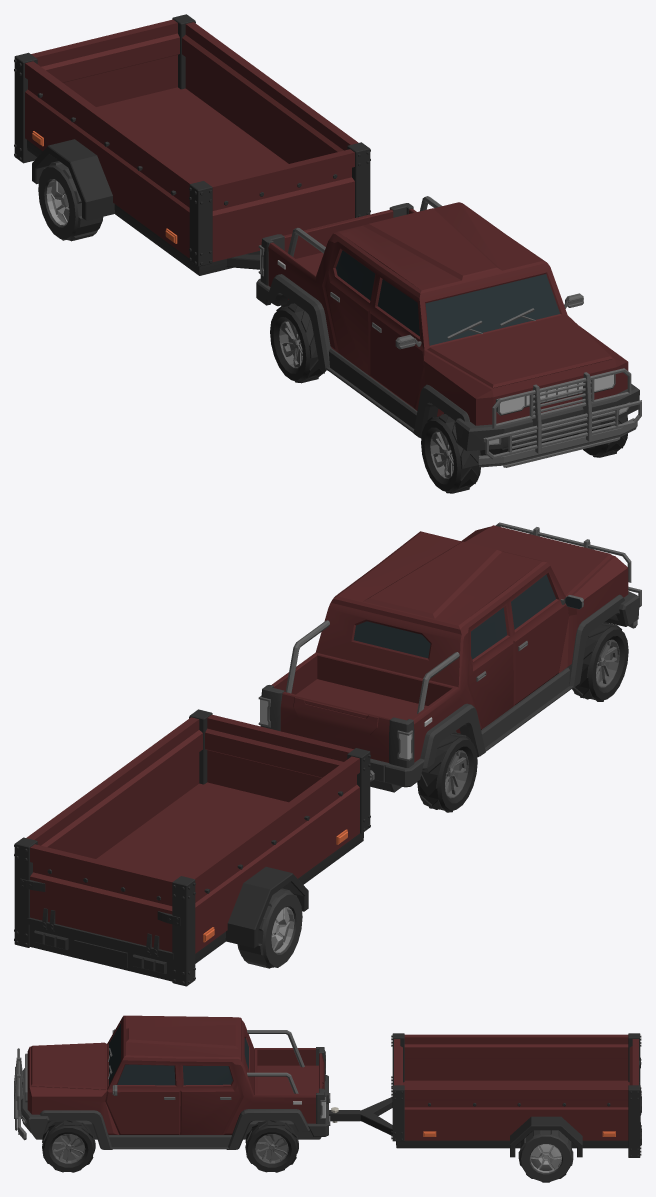
Rendered from car_01.glb.
3 renders of one model, top to bottom at view 1: azimuth 30°, elevation 25°; view 2: azimuth 150°, elevation 25°; view 3: azimuth 270°, elevation 25°, orthographic. The views are drawn at different scales.
Visible parts, largest first — view 1: car_01; view 2: car_01; view 3: car_01.
Boxes of the visible parts, bbox=[...] form: car_01: bbox=[14, 14, 641, 493]; car_01: bbox=[14, 522, 641, 986]; car_01: bbox=[14, 1015, 641, 1182].
Size of the model in its own units: 2.91 by 2.04 by 10.33.
1 material, 1 textured.
